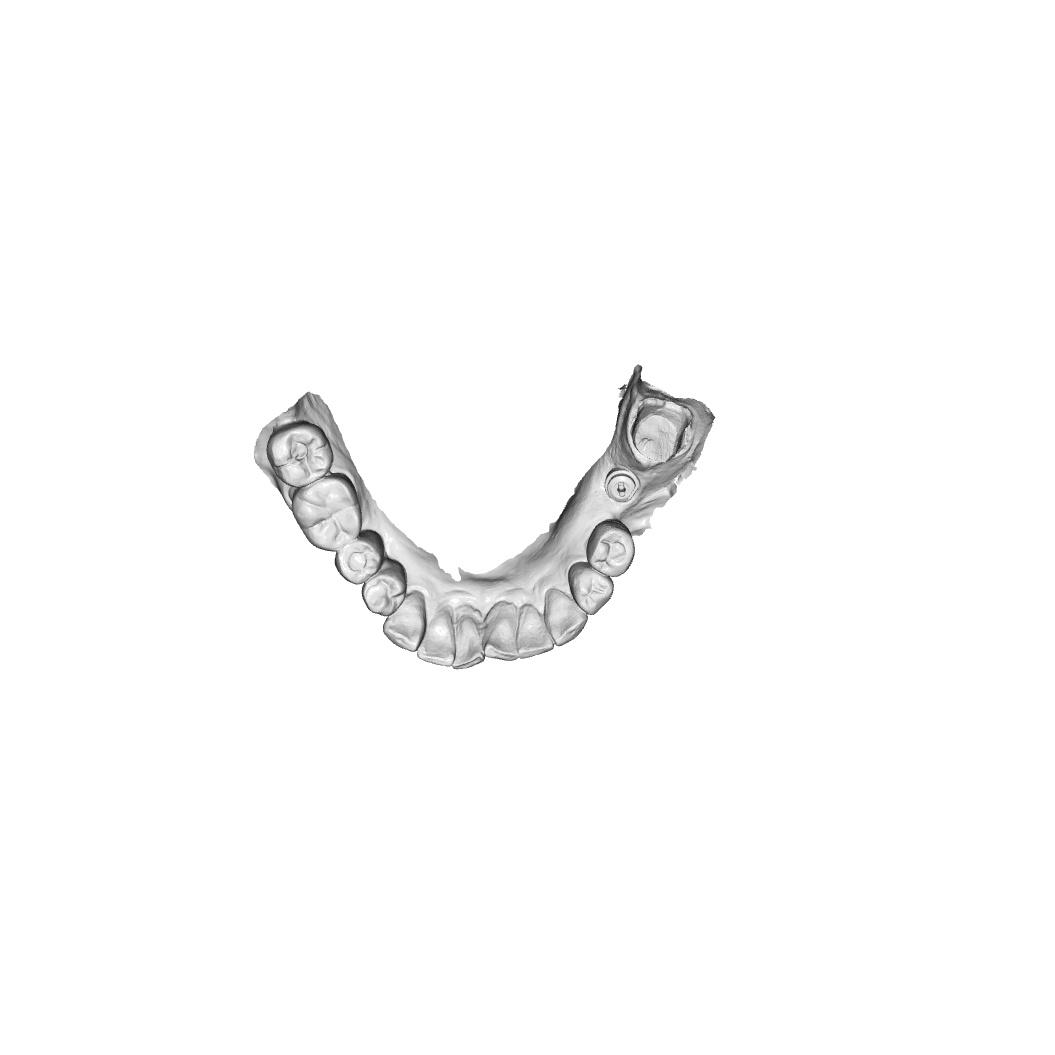canine: (382, 589, 427, 652), (544, 587, 589, 648)
crown: (628, 396, 693, 465)
implant_minus: (603, 467, 641, 504)
incisor: (416, 608, 456, 668), (483, 603, 519, 663), (516, 605, 555, 660), (451, 614, 486, 670)
molar: (292, 472, 364, 552), (265, 419, 334, 488)
premolar: (585, 518, 636, 578), (333, 528, 385, 586), (361, 558, 408, 617), (567, 561, 615, 616)
